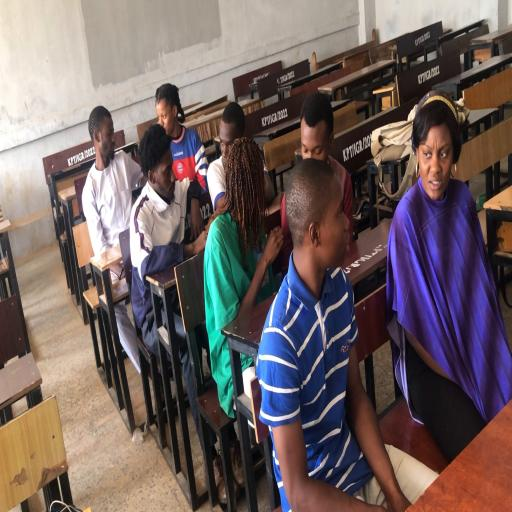Usingmobile: (128, 125, 190, 352), (268, 93, 354, 232), (80, 105, 136, 308), (154, 83, 211, 239)
